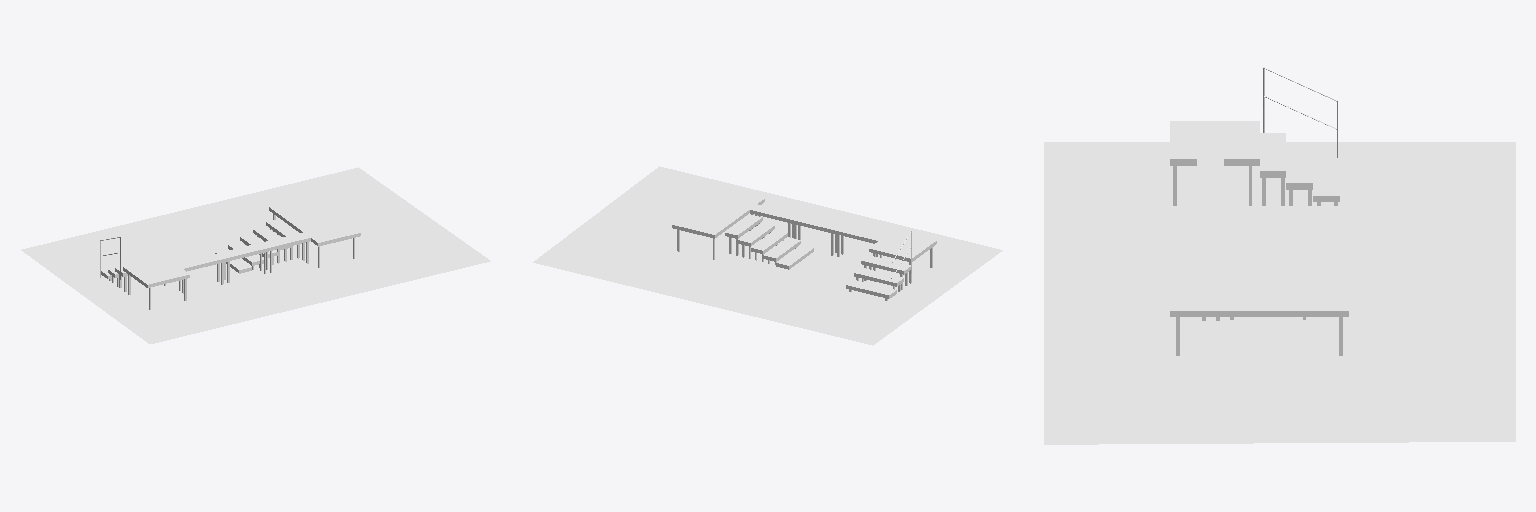
The robot description file, URDF, robot "stair_bauzil":
<robot name="stair_bauzil">
  <link name="base_link">
    <visual>
      <origin xyz="0 0 0" rpy="0 0 0" />
      <geometry>
        <mesh filename="package://hpp-rbprm-corba/meshes/bauzil_stairs.stl"/>
      </geometry>
      <material name="white">
        <color rgba="1 1 1 1"/>
      </material>
    </visual>
    <collision>
      <origin xyz="0 0 0" rpy="0 0 0" />
      <geometry>
        <mesh filename="package://hpp-rbprm-corba/meshes/bauzil_walk_stairs.stl"/>
      </geometry>
    </collision>
  </link>
</robot>

--- Facts derived from the render (not from the file) ---
Views: 3 orthographic renders of the robot side by side, from view 1: azimuth 30°, elevation 25°; view 2: azimuth 150°, elevation 25°; view 3: azimuth 270°, elevation 25°.
Robot: stair_bauzil — 1 links, 0 joints (none); root link base_link; default pose: every joint at zero.
Visible links, largest first — view 1: base_link; view 2: base_link; view 3: base_link.
Link boxes in pixels (x1,y1,x2,y2): base_link: (21,167,490,343); base_link: (533,166,1002,345); base_link: (1044,67,1515,444).
Bounding box of the posed robot: 8 × 5.25 × 1.25 m (x, y, z).
Meshes: 1 distinct files referenced, 1 mesh visuals loaded (1 binary STL).
